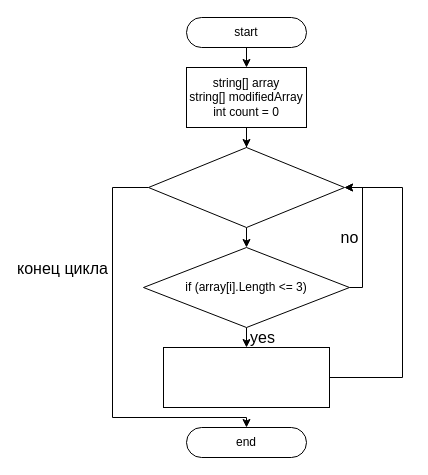
This 428x475 diagram has some shape labels left out. Each missing label, with the box of its shape:
for (int i; i < array.Length; i++: (148, 146, 344, 228)
modifiedArray[count] = array[i] count++;: (162, 346, 330, 408)
